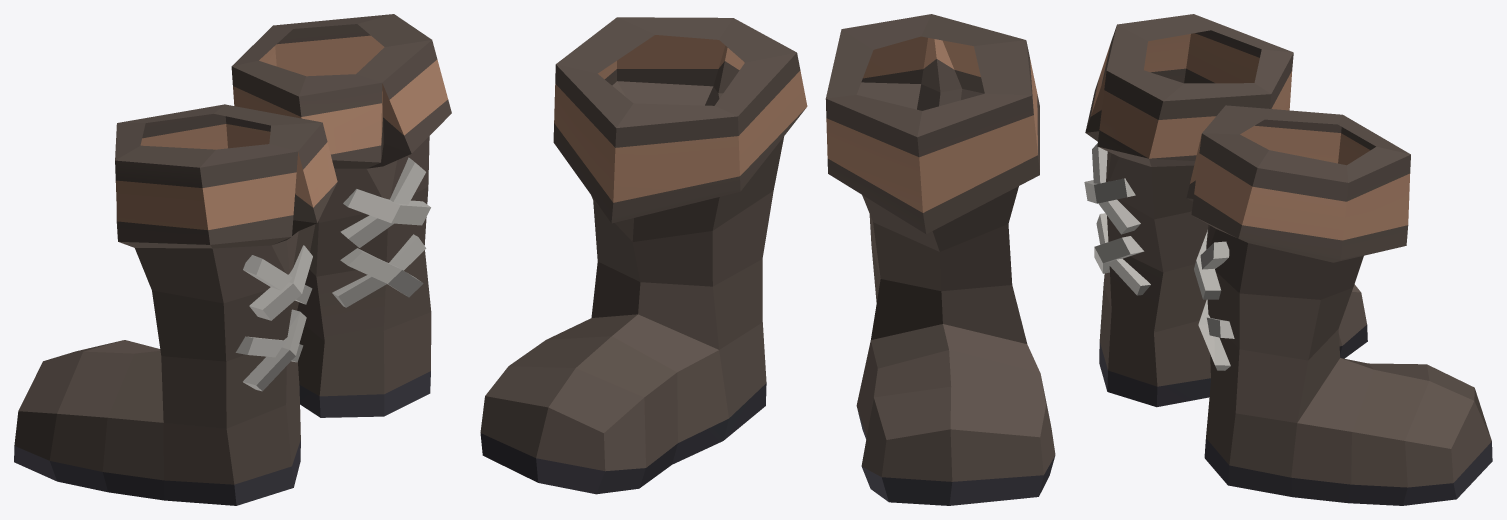
The model's file is bootsLeatherDisplay.fbx.
3 views of the same model, side by side, from view 1: azimuth 30°, elevation 25°; view 2: azimuth 150°, elevation 25°; view 3: azimuth 270°, elevation 25° (orthographic). The views are drawn at different scales.
Parts seen in each view (by area): view 1: bootsLeatherDisplay; view 2: bootsLeatherDisplay; view 3: bootsLeatherDisplay.
Part boxes in pixels (x1=…): bootsLeatherDisplay: x1=14, y1=14, x2=451, y2=505; bootsLeatherDisplay: x1=480, y1=14, x2=1055, y2=505; bootsLeatherDisplay: x1=1084, y1=14, x2=1492, y2=505.
Bounding box in the file's own units: 1.58 × 1.17 × 1.33.
Materials: 1 (1 with a texture image).
